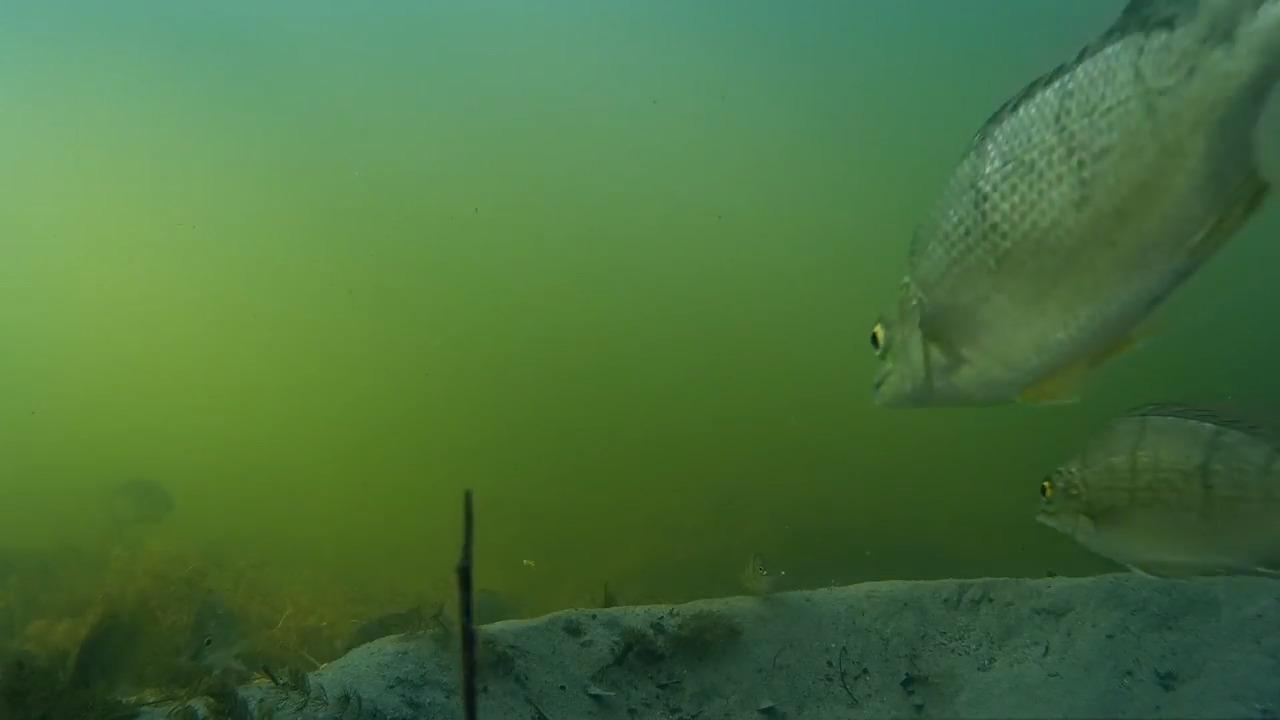Tilapia: (896, 16, 1280, 444), (1028, 403, 1280, 582)
